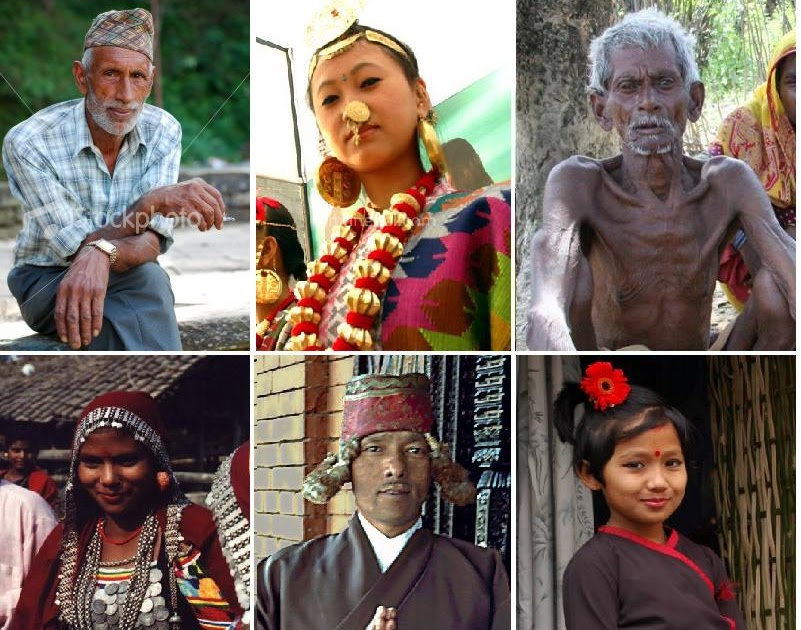human: (517, 2, 801, 354), (251, 1, 511, 349), (1, 1, 249, 348), (514, 356, 794, 630), (255, 356, 508, 630), (1, 355, 248, 630)
